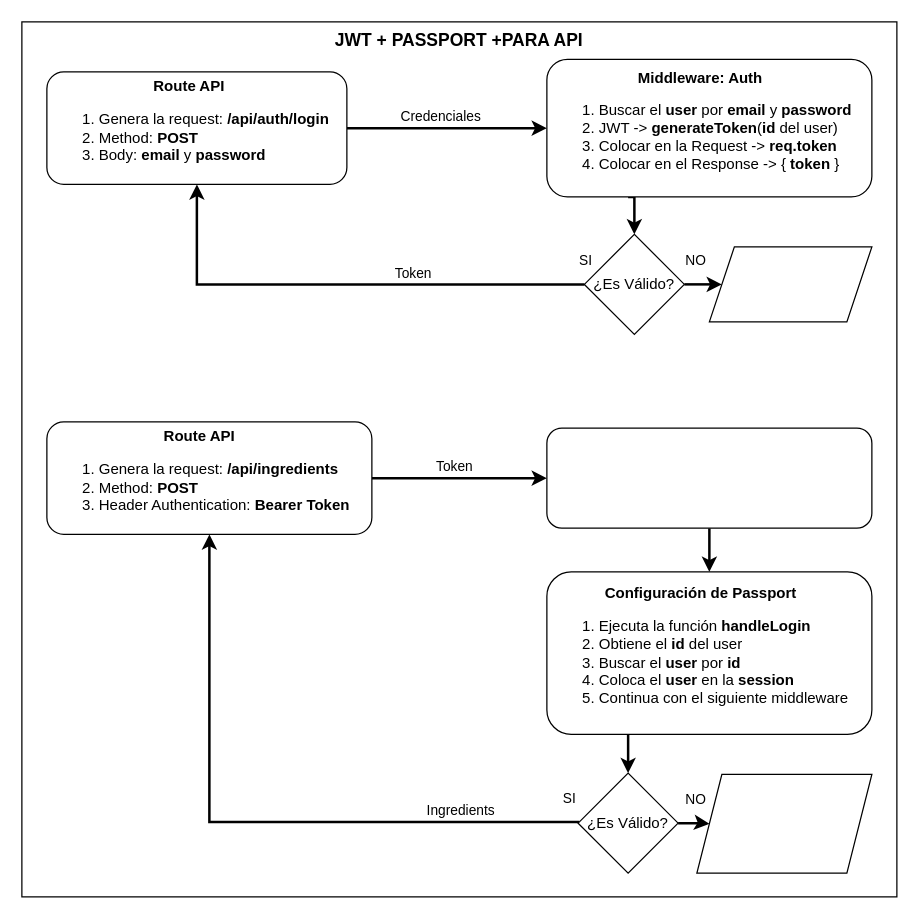
This 919x919 diagram has some shape labels left out. Each missing label, with the box of its shape:
Email o contraseña incorrecta: (708, 246, 872, 322)
Middleware: Auth Ejecuta passport.authenticate con la estrategia "jwt-api": (546, 427, 872, 528)
Token no válido Token no encontrado Token expirado: (696, 773, 872, 873)
